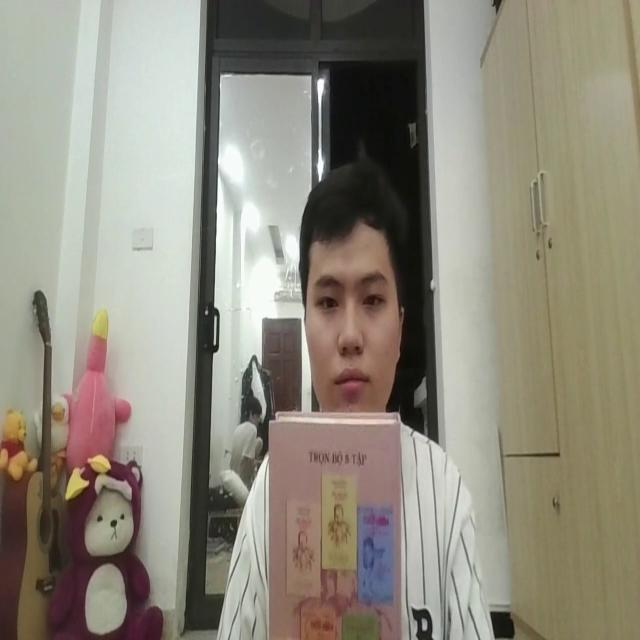book: (268, 399, 406, 640)
student: (223, 159, 495, 640)
